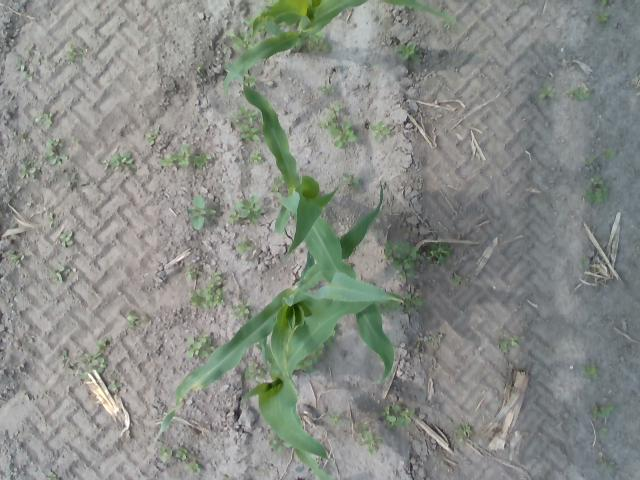Maize: (154, 181, 384, 448), (241, 79, 395, 385), (225, 0, 458, 103), (244, 303, 376, 480)
Weeds: (192, 275, 226, 308), (190, 194, 218, 229), (227, 196, 259, 224), (380, 404, 414, 426), (332, 126, 358, 148), (182, 337, 211, 355), (584, 148, 616, 164), (358, 428, 378, 452), (108, 154, 134, 172), (401, 244, 418, 270), (430, 245, 452, 265), (46, 146, 68, 163), (588, 185, 610, 202), (34, 110, 52, 130), (396, 42, 416, 60), (235, 105, 256, 122), (166, 444, 189, 459), (403, 294, 422, 312), (369, 122, 389, 139), (240, 125, 260, 142), (499, 335, 516, 354), (592, 404, 612, 420), (52, 267, 72, 283), (313, 34, 330, 52), (177, 146, 190, 168), (18, 164, 38, 178), (60, 231, 76, 248), (320, 115, 337, 130), (232, 36, 250, 50), (382, 241, 398, 256), (246, 359, 258, 379), (344, 174, 362, 186), (64, 46, 79, 60), (569, 90, 589, 100), (59, 350, 70, 368), (92, 358, 105, 373), (538, 87, 554, 99), (318, 85, 335, 96), (582, 364, 599, 375), (455, 425, 472, 436), (195, 154, 208, 168), (238, 241, 252, 254), (234, 302, 248, 315), (108, 382, 125, 392), (330, 411, 342, 425), (126, 313, 144, 322), (184, 464, 200, 474), (10, 252, 26, 262), (185, 268, 198, 280), (46, 470, 60, 480), (267, 180, 281, 190), (162, 155, 174, 166), (146, 134, 157, 146), (601, 459, 615, 468), (26, 44, 36, 56), (18, 60, 30, 70), (452, 274, 462, 286), (99, 339, 111, 349), (598, 0, 615, 7), (52, 139, 64, 148), (327, 102, 340, 110), (250, 153, 261, 162), (593, 177, 603, 186), (582, 257, 591, 266), (599, 13, 609, 21), (49, 212, 54, 226)
